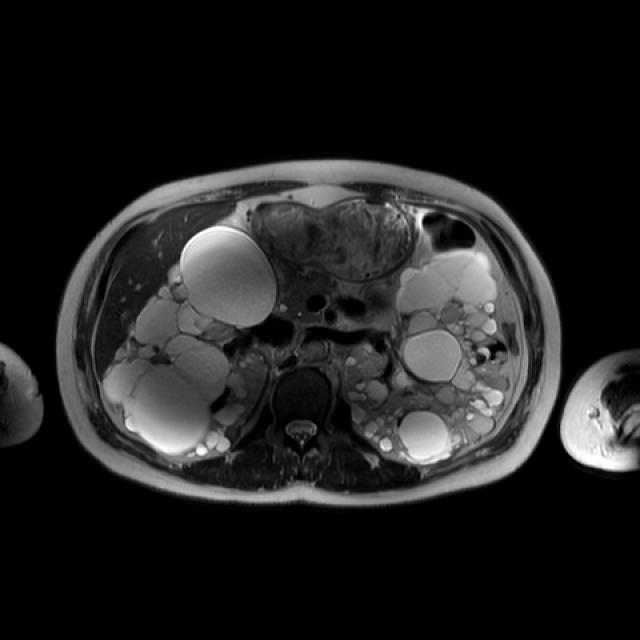sag: (100, 223, 277, 458)
sol: (345, 247, 510, 460)
